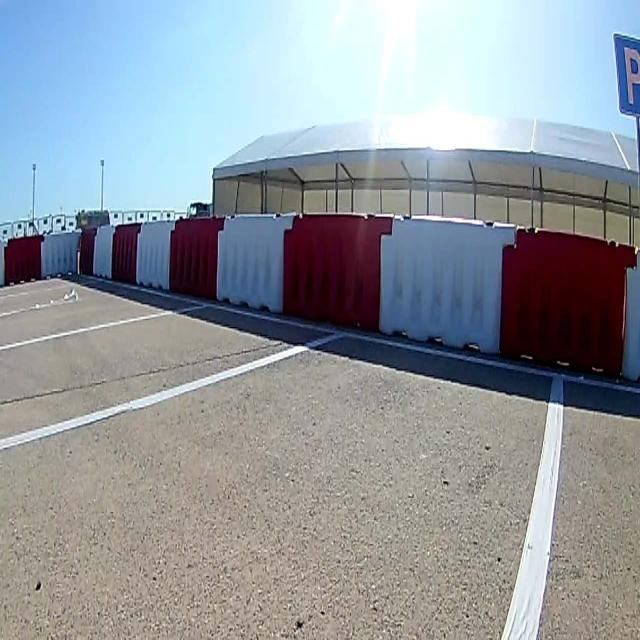park: (614, 35, 640, 113)
